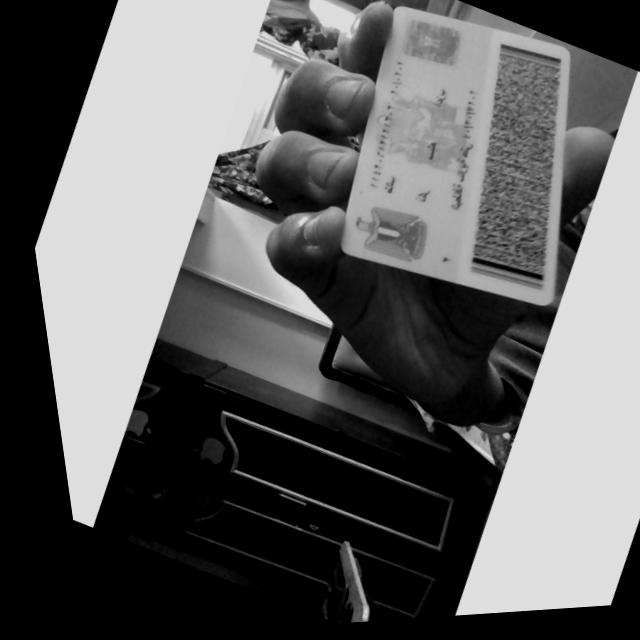back: (341, 5, 569, 304)
